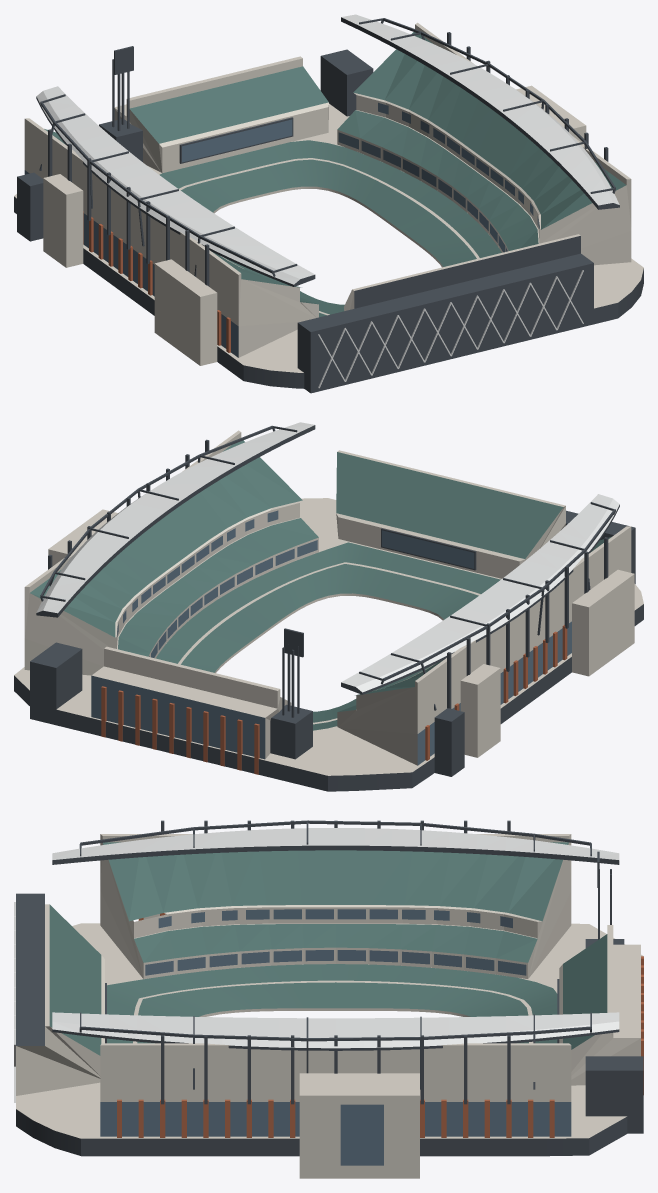
The model's file is phl-lincoln-financial-field.glb.
3 renders of one model, top to bottom at view 1: azimuth 30°, elevation 25°; view 2: azimuth 150°, elevation 25°; view 3: azimuth 270°, elevation 25°, orthographic. The views are drawn at different scales.
Visible parts, largest first — view 1: Lincoln Financial Field; view 2: Lincoln Financial Field; view 3: Lincoln Financial Field.
Part boxes in pixels (x1,y1,x2,y2): Lincoln Financial Field: [14, 14, 643, 393]; Lincoln Financial Field: [14, 422, 643, 791]; Lincoln Financial Field: [14, 820, 643, 1178].
Bounding box in the file's own units: 243 × 67 × 262.
